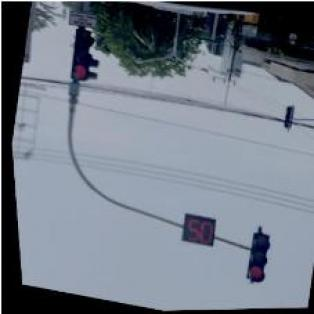Semaforo Rojo: (65, 29, 97, 83), (239, 232, 271, 285)
